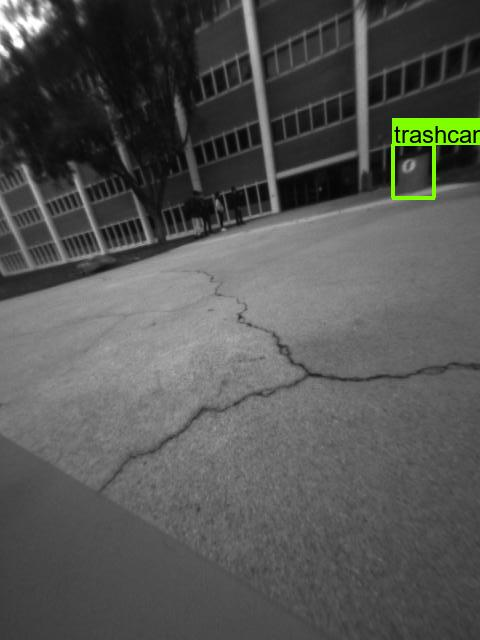trashcan: (395, 150, 432, 193)
